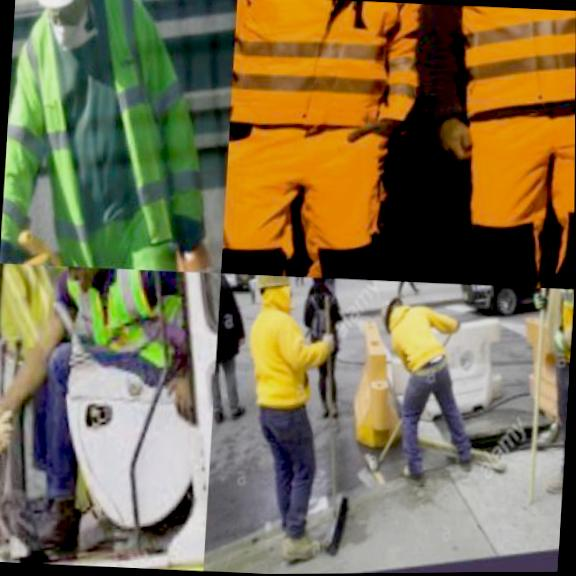safety_vest: (0, 0, 236, 273), (227, 0, 457, 175), (38, 264, 205, 396), (423, 3, 576, 129), (533, 287, 573, 362)
